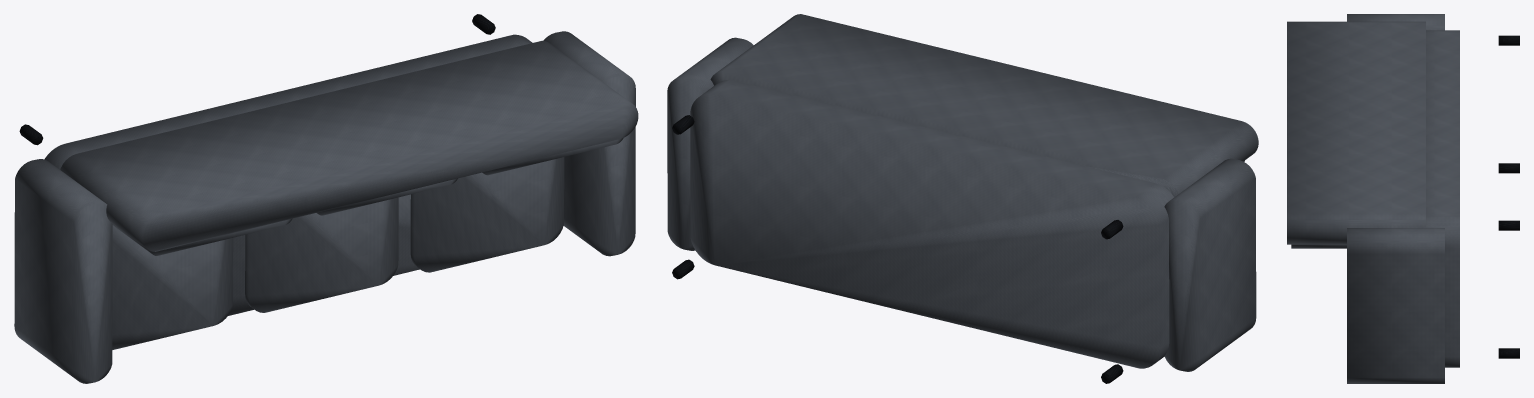
Rendered from SOFA_3SEAT_LIGHT_001.glb.
3 views of the same model, side by side, from view 1: azimuth 30°, elevation 25°; view 2: azimuth 150°, elevation 25°; view 3: azimuth 270°, elevation 25° (orthographic). The views are drawn at different scales.
Parts seen in each view (by area): view 1: sofa_back_001, sofa_arm_002, seat_cushion_008, seat_cushion_006, seat_cushion_004, sofa_arm_003, sofa_base_000, back_pillow_005, back_pillow_007, back_pillow_009; view 2: sofa_base_000, sofa_back_001, sofa_arm_002, sofa_arm_003; view 3: sofa_back_001, sofa_arm_003, sofa_base_000, sofa_arm_002, back_pillow_009, short_leg_012, short_leg_010, short_leg_011, short_leg_013.
Part boxes in pixels (box(x1,y1,x2,y2)): sofa_back_001: box(60, 40, 638, 251); sofa_arm_002: box(14, 159, 112, 383); seat_cushion_008: box(410, 157, 564, 272); seat_cushion_006: box(245, 197, 398, 312); seat_cushion_004: box(112, 225, 233, 349); sofa_arm_003: box(543, 31, 635, 256); sofa_base_000: box(44, 34, 532, 315); back_pillow_005: box(112, 218, 292, 255); back_pillow_007: box(316, 178, 457, 215); back_pillow_009: box(482, 138, 623, 175); sofa_base_000: box(690, 80, 1174, 368); sofa_back_001: box(710, 14, 1258, 196); sofa_arm_002: box(1164, 158, 1256, 371); sofa_arm_003: box(667, 37, 753, 250); sofa_back_001: box(1287, 21, 1425, 244); sofa_arm_003: box(1347, 228, 1444, 383); sofa_base_000: box(1426, 30, 1459, 367); sofa_arm_002: box(1347, 14, 1444, 30); back_pillow_009: box(1291, 244, 1346, 248); short_leg_012: box(1498, 348, 1519, 358); short_leg_010: box(1498, 163, 1519, 173); short_leg_011: box(1498, 35, 1519, 45); short_leg_013: box(1498, 220, 1519, 230).
Bounding box in the file's own units: 2.55 × 0.82 × 1.09.
2 materials, 2 textured.
